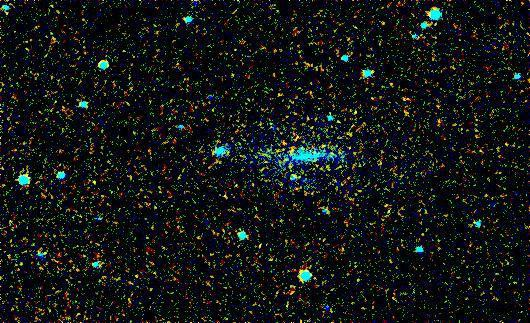star: (366, 8, 396, 38)
